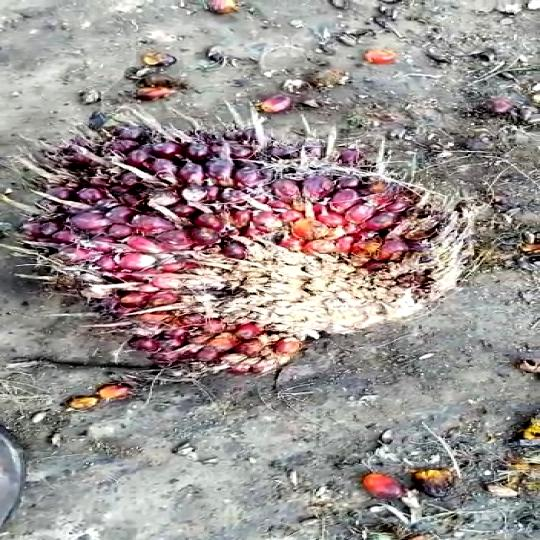masak: (0, 100, 511, 367)
